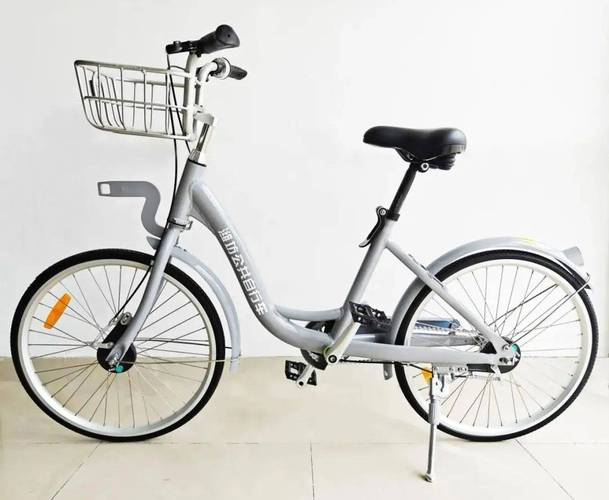单车: (9, 13, 602, 493)
